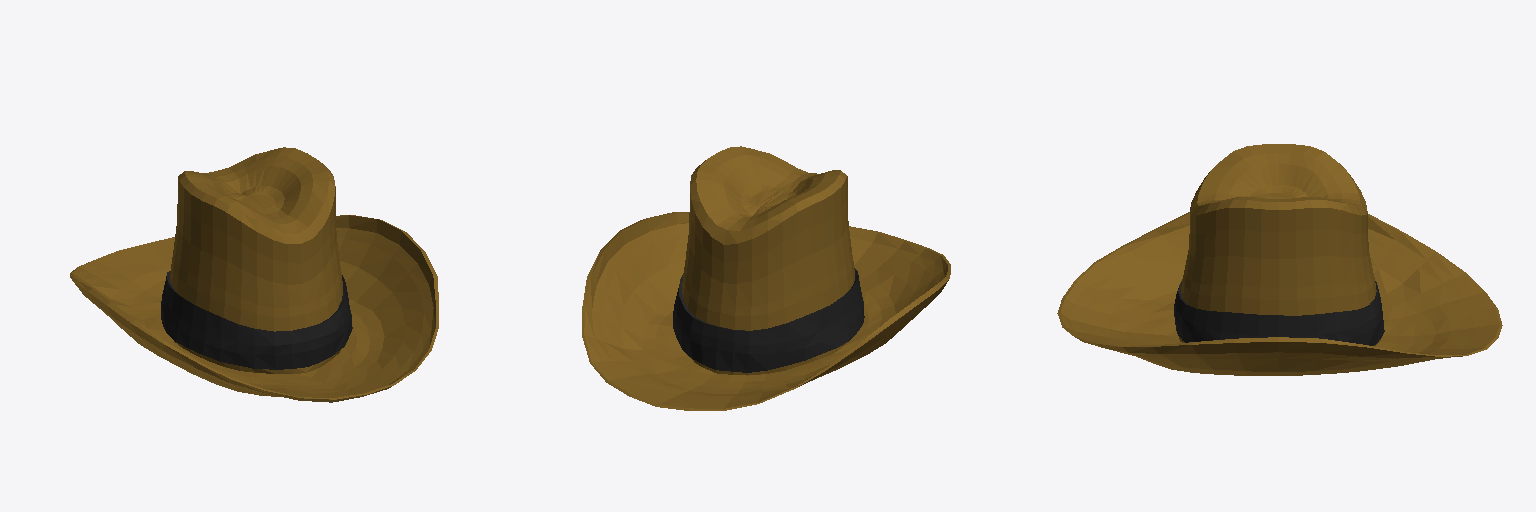
3 views of the same model, side by side, from view 1: azimuth 30°, elevation 25°; view 2: azimuth 150°, elevation 25°; view 3: azimuth 270°, elevation 25° (orthographic).
Visible parts, largest first — view 1: Cylinder; view 2: Cylinder; view 3: Cylinder.
Part boxes in pixels (left/top/right/bottom): Cylinder: left=70, top=147, right=438, bottom=402; Cylinder: left=582, top=146, right=950, bottom=410; Cylinder: left=1057, top=144, right=1502, bottom=375.
Bounding box in the file's own units: 3.41 × 1.81 × 4.39.
1 materials, 1 textured.